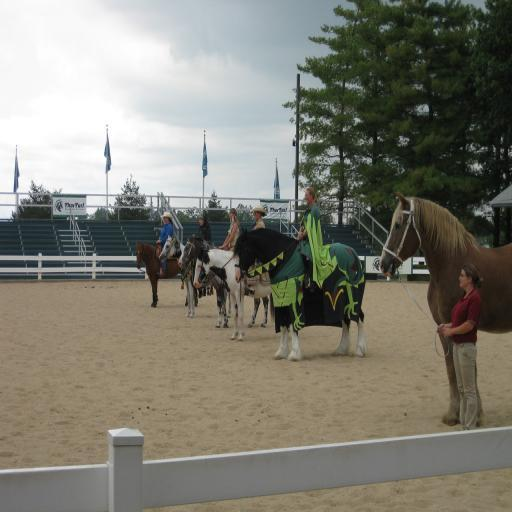horse: (380, 191, 512, 423), (228, 224, 366, 362), (177, 234, 270, 326), (192, 242, 274, 343), (159, 235, 231, 312), (136, 242, 199, 310)
